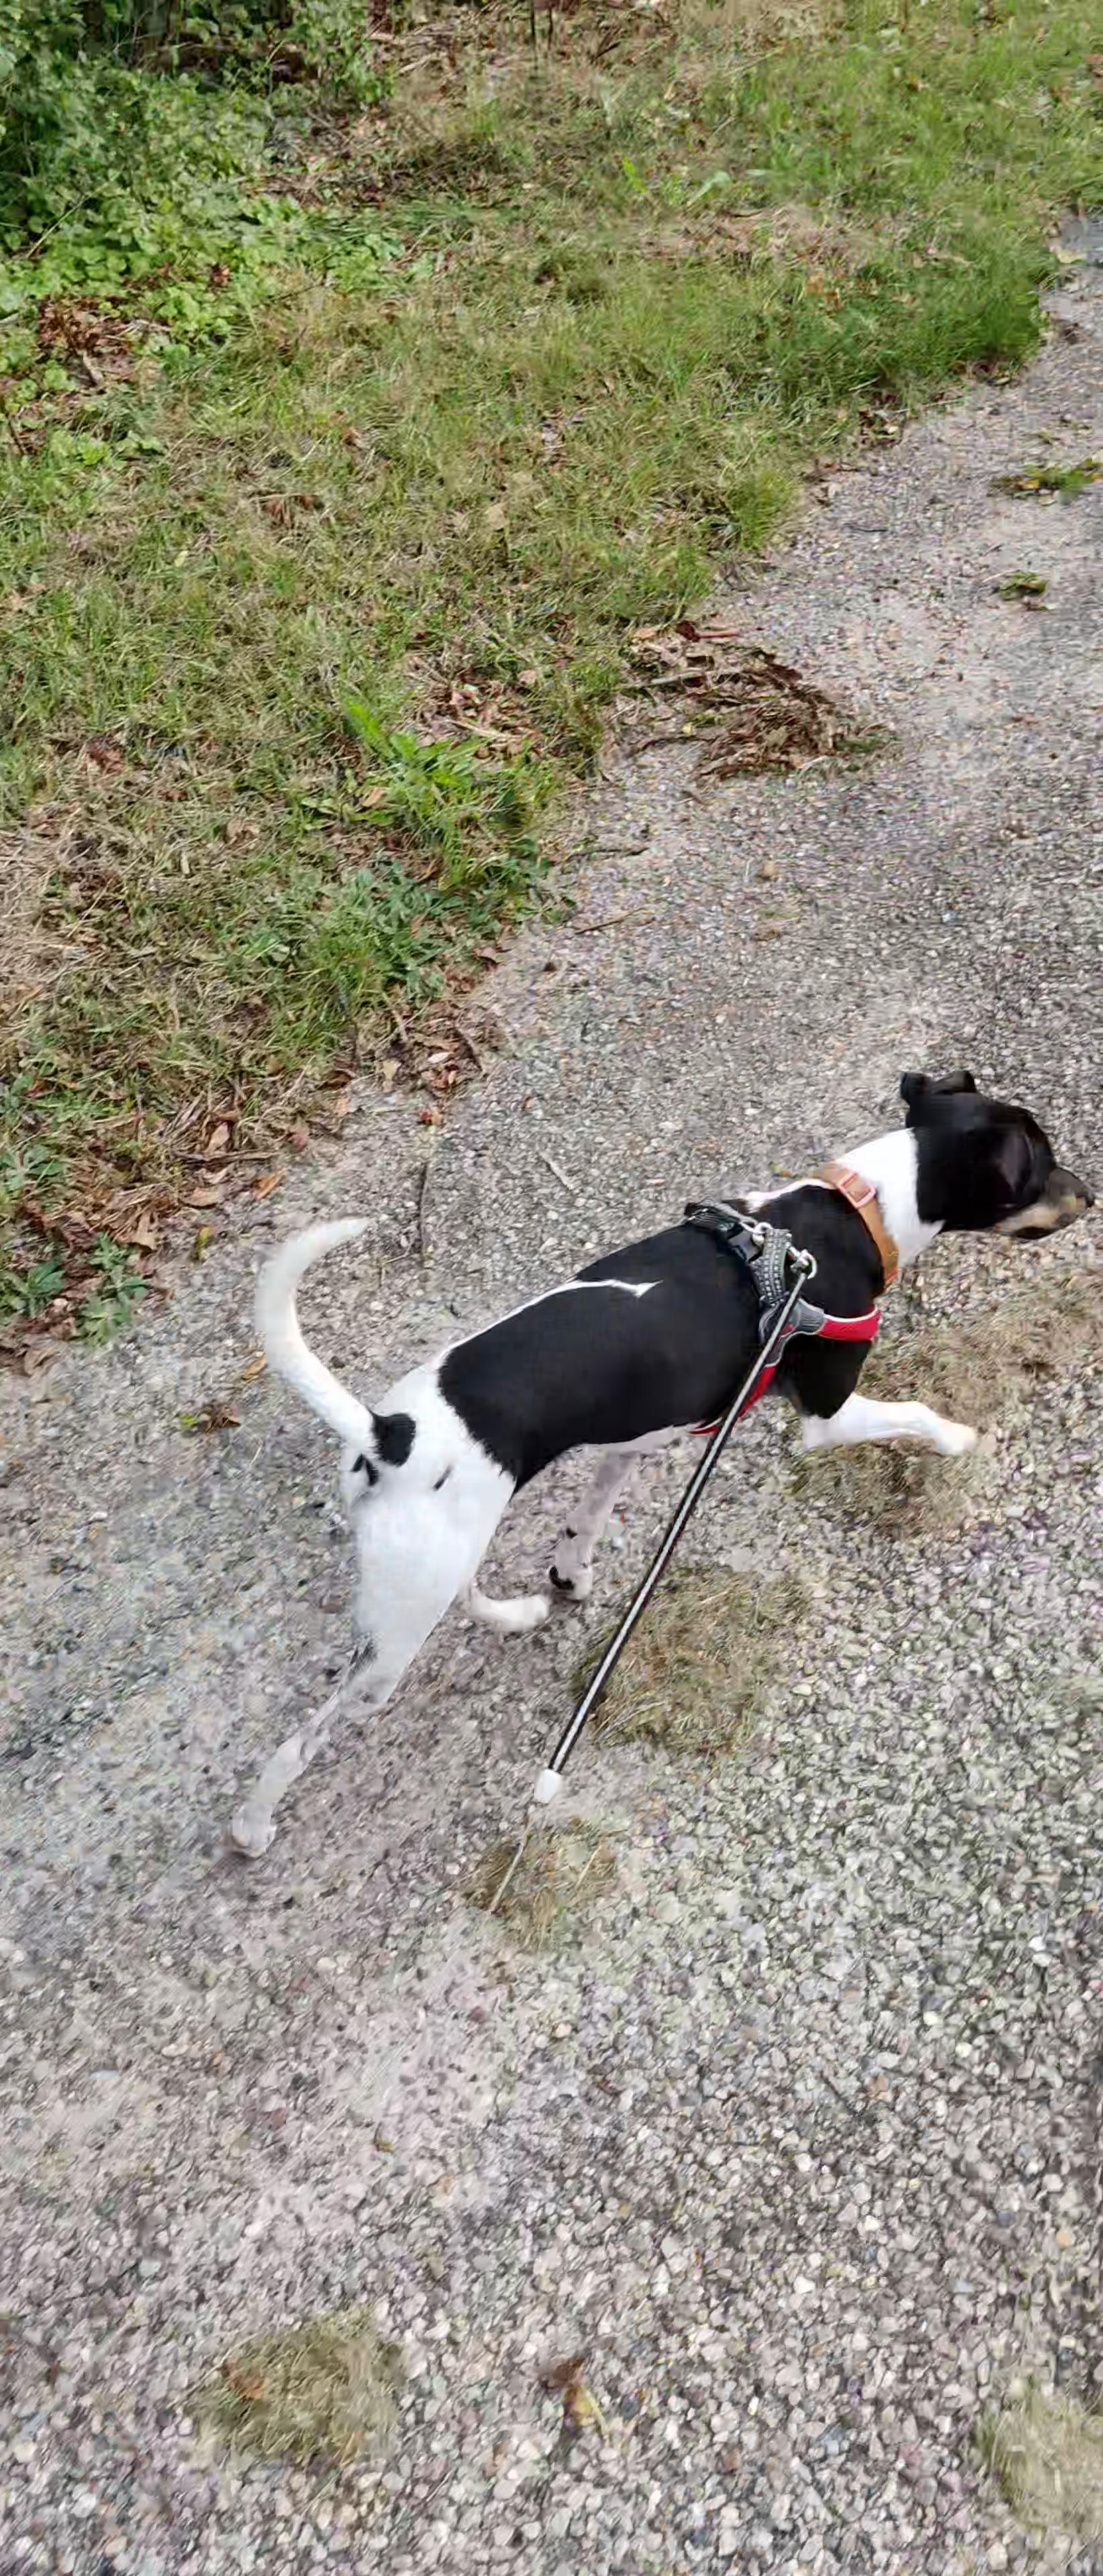Dog: (219, 1061, 1096, 1883)
